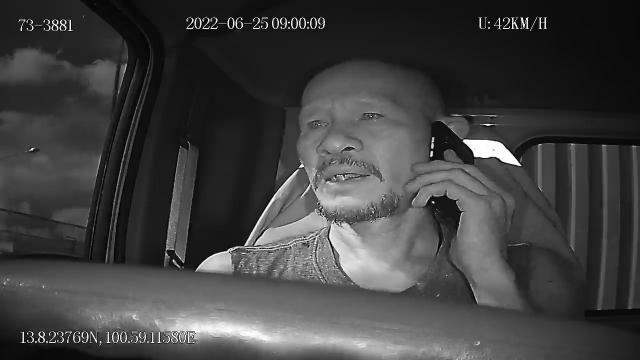PhoneUse: (426, 118, 476, 232)
SafeDriving: (352, 100, 394, 129), (299, 108, 336, 136)
